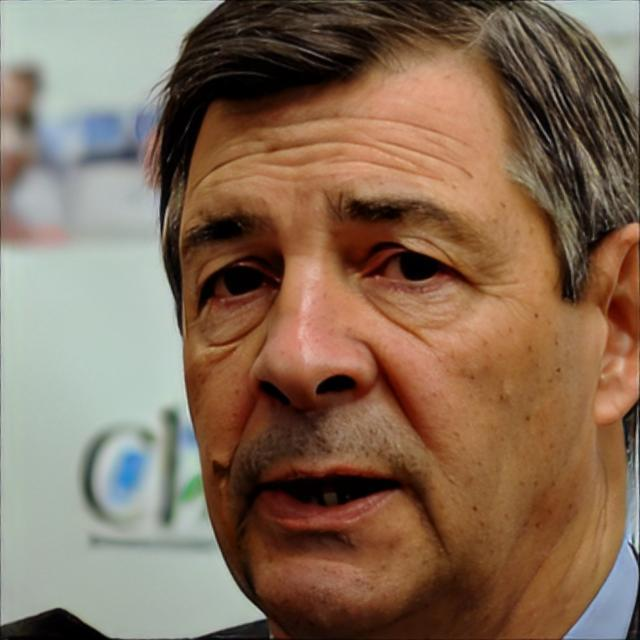sad: (174, 58, 592, 635)
